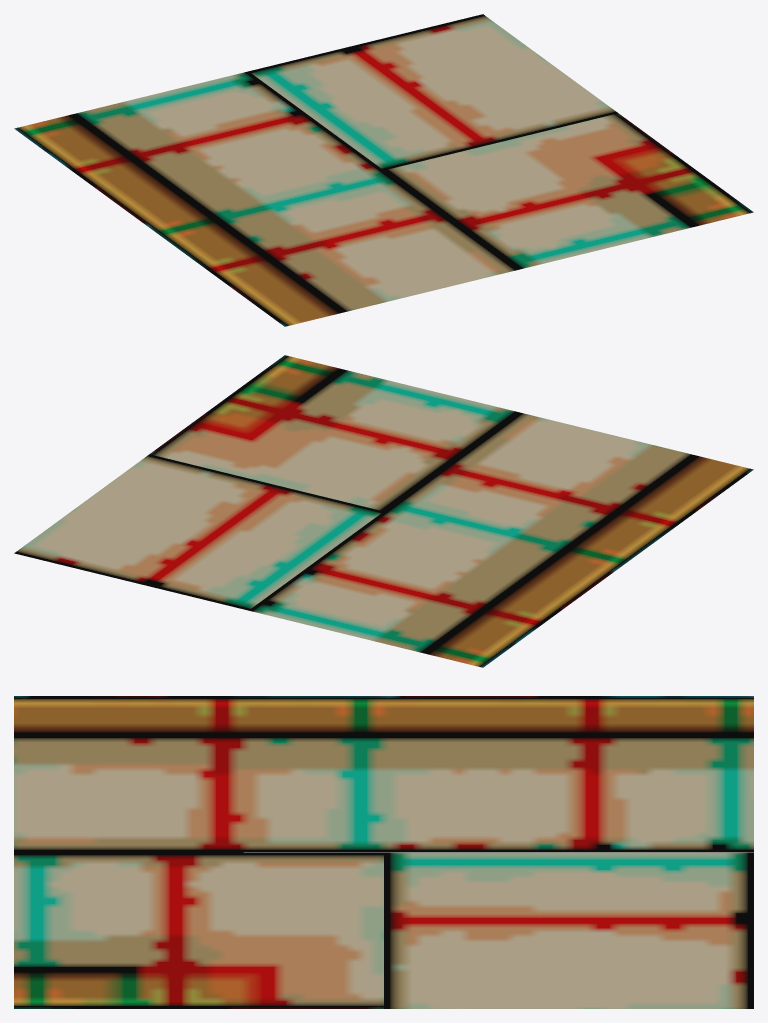
File: arch_cathedral_floorEdge_1line_1vertB.FBX
3 renders of one model, top to bottom at view 1: azimuth 30°, elevation 25°; view 2: azimuth 150°, elevation 25°; view 3: azimuth 270°, elevation 25°, orthographic. The views are drawn at different scales.
Parts seen in each view (by area): view 1: arch_cathedral_floorEdge_1line_1vertB; view 2: arch_cathedral_floorEdge_1line_1vertB; view 3: arch_cathedral_floorEdge_1line_1vertB.
Part boxes in pixels (box(x1,y1,x2,y2)): arch_cathedral_floorEdge_1line_1vertB: box(14, 14, 753, 326); arch_cathedral_floorEdge_1line_1vertB: box(14, 355, 753, 667); arch_cathedral_floorEdge_1line_1vertB: box(14, 696, 753, 1008).
Size of the model in its own units: 2 by 9.54e-07 by 2.
Materials: 1 (1 with a texture image).
